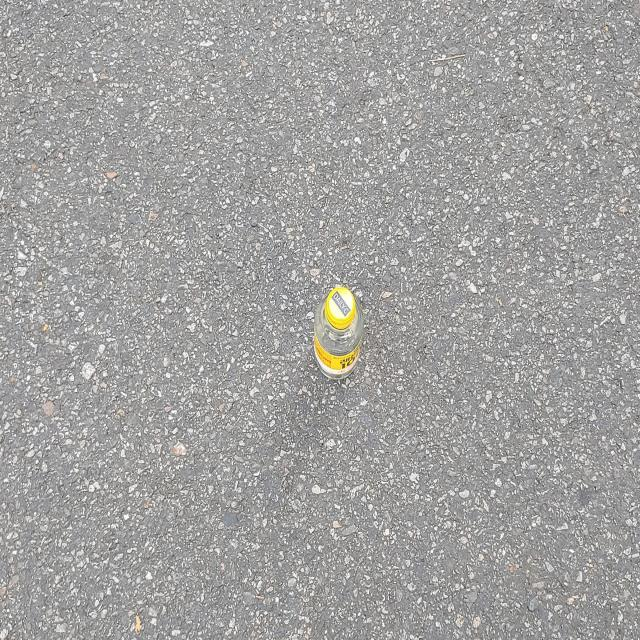glass: (314, 287, 364, 379)
